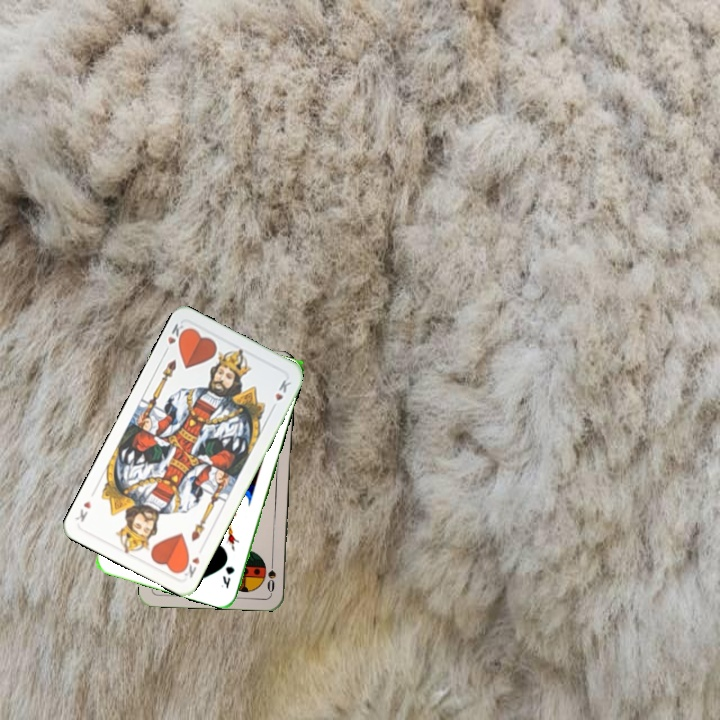GK: (217, 562, 237, 591)
HK: (160, 319, 190, 357), (180, 553, 202, 580)
SO: (263, 554, 278, 595)
